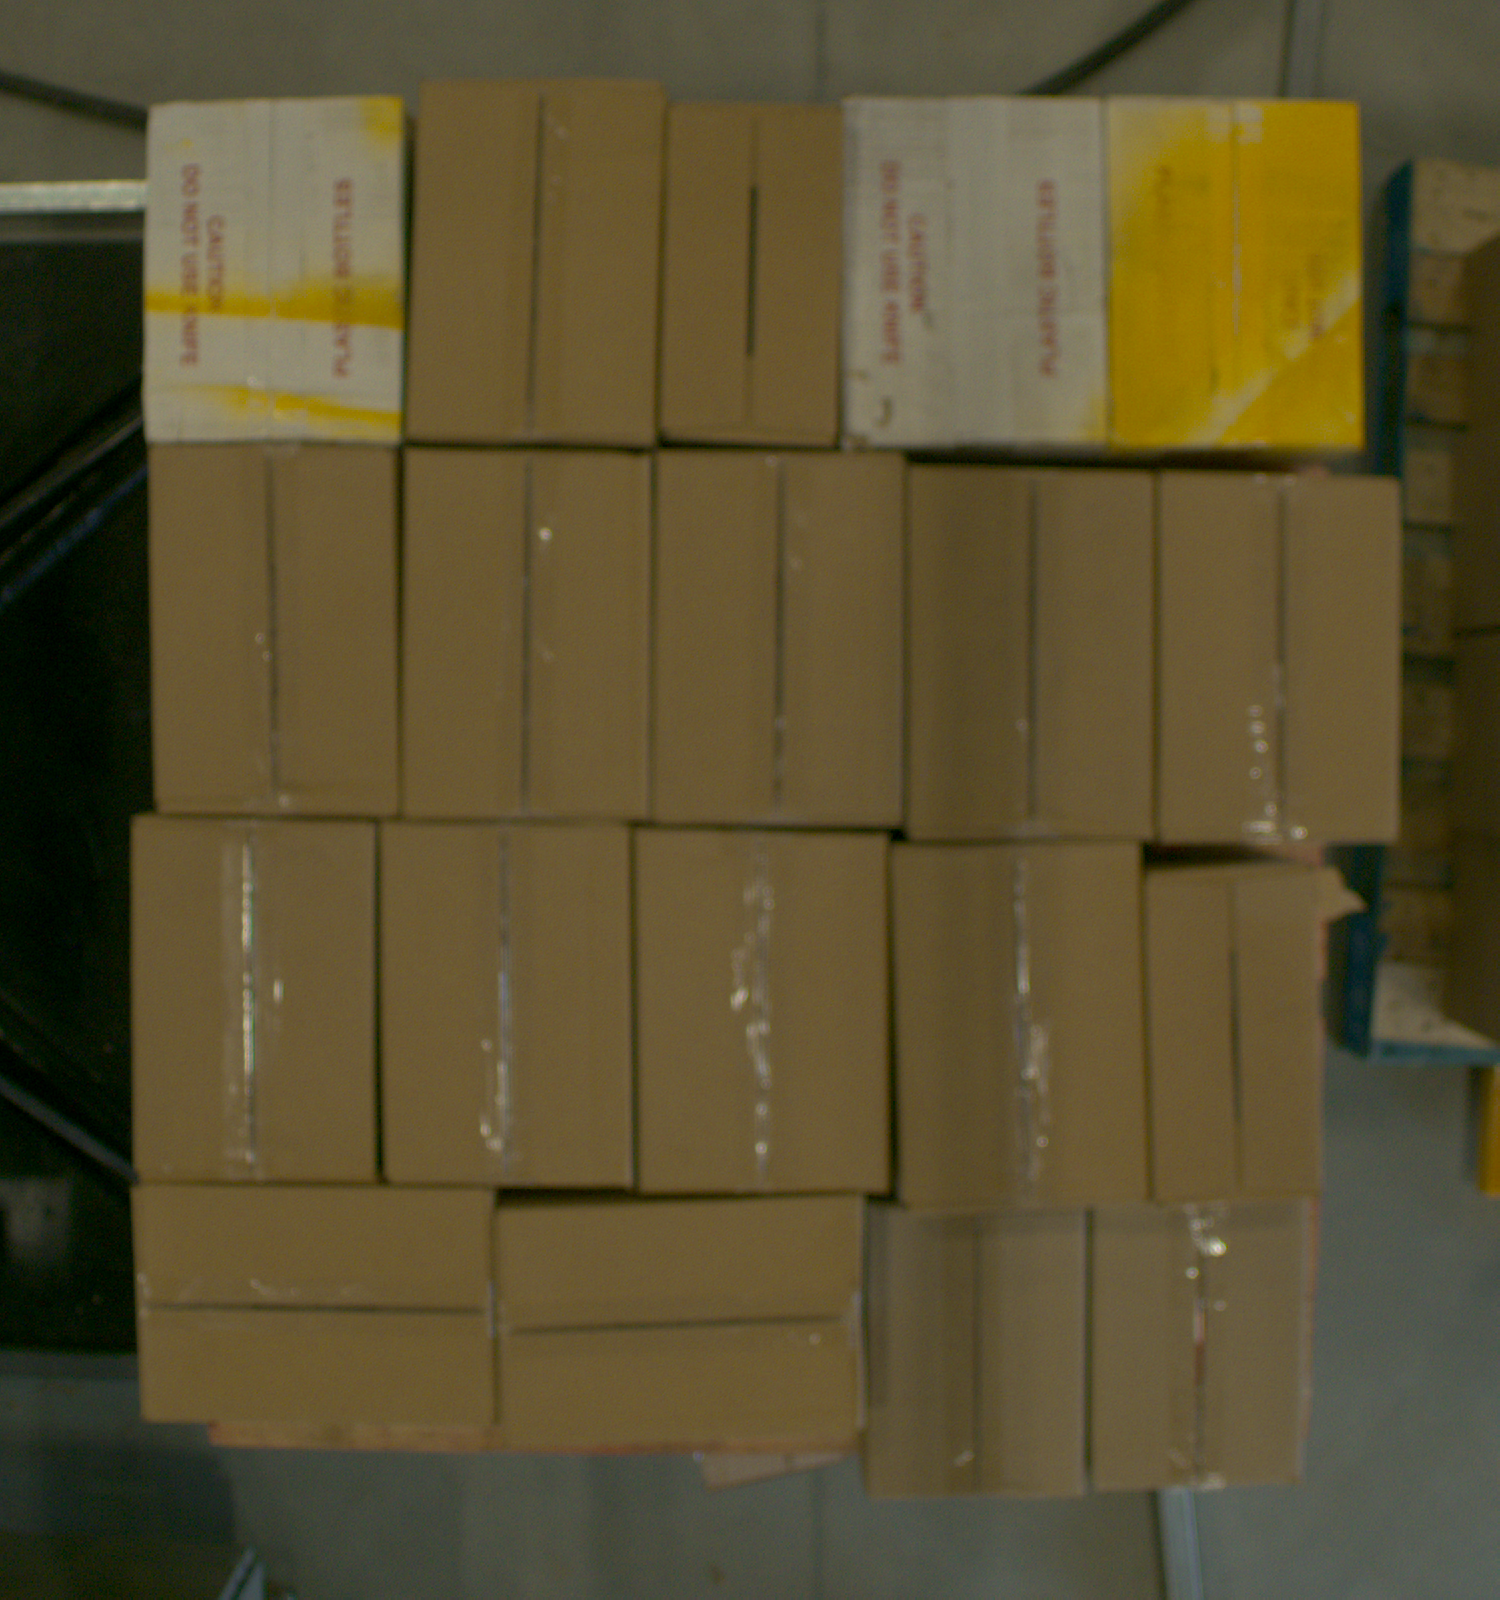box top: (651, 454, 905, 826), (410, 78, 664, 443), (908, 469, 1156, 839), (144, 97, 405, 445), (403, 450, 651, 815), (639, 836, 891, 1194), (844, 97, 1102, 447), (154, 451, 399, 816), (500, 1200, 861, 1446), (897, 846, 1146, 1202), (381, 827, 629, 1186), (1111, 99, 1363, 450), (134, 823, 376, 1183), (1162, 475, 1398, 843), (133, 1188, 495, 1427), (864, 1207, 1088, 1501), (661, 103, 844, 443), (1148, 870, 1325, 1200), (1100, 1207, 1304, 1487)
